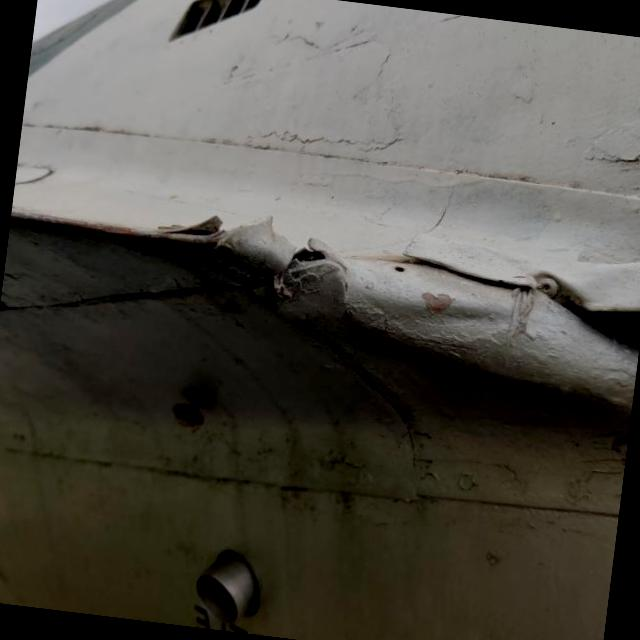Missing Fastener: (382, 256, 410, 280)
